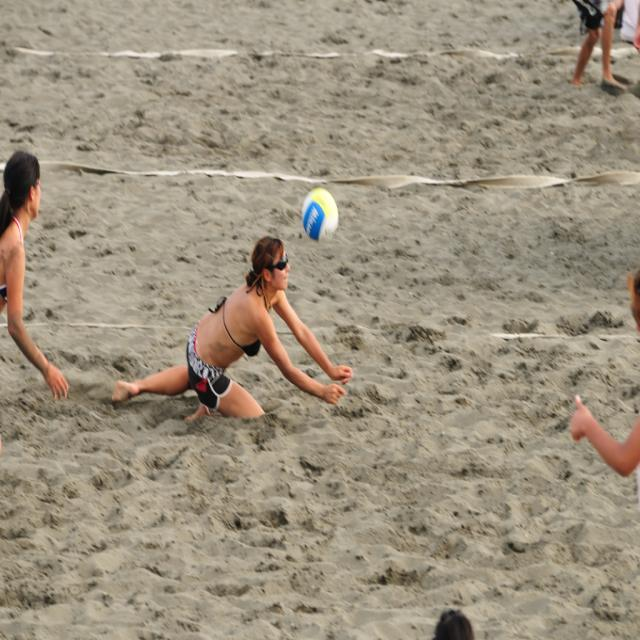Ball: (302, 188, 339, 242)
